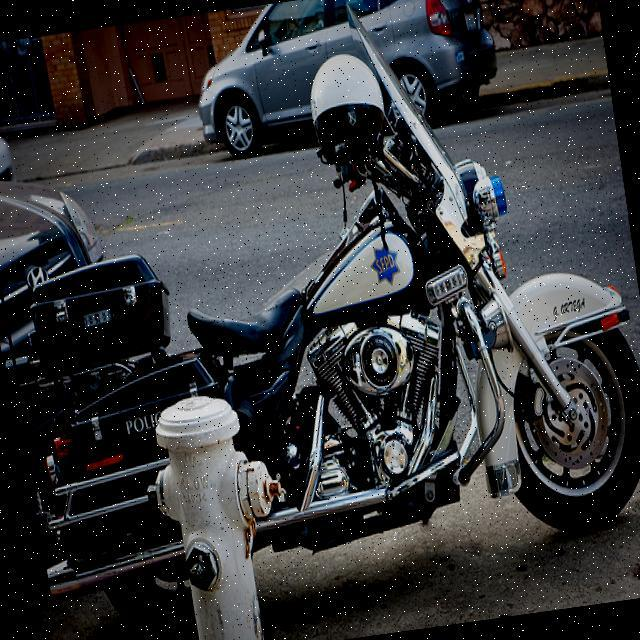fire_hydrant: (133, 384, 304, 640)
